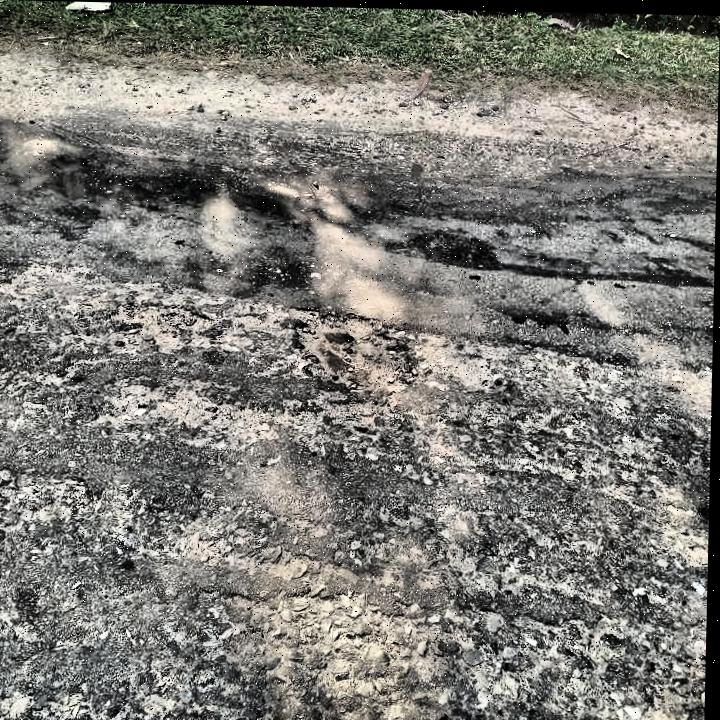pothole: (289, 301, 419, 393), (127, 292, 218, 360)
